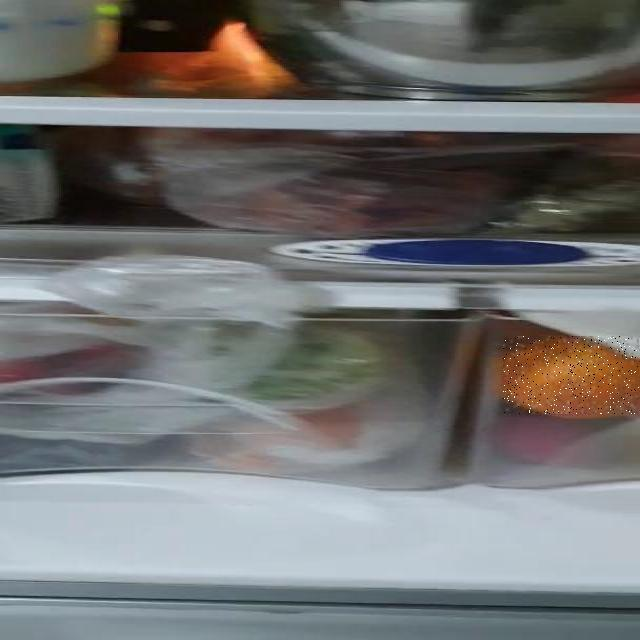Orange: (503, 336, 639, 414)
